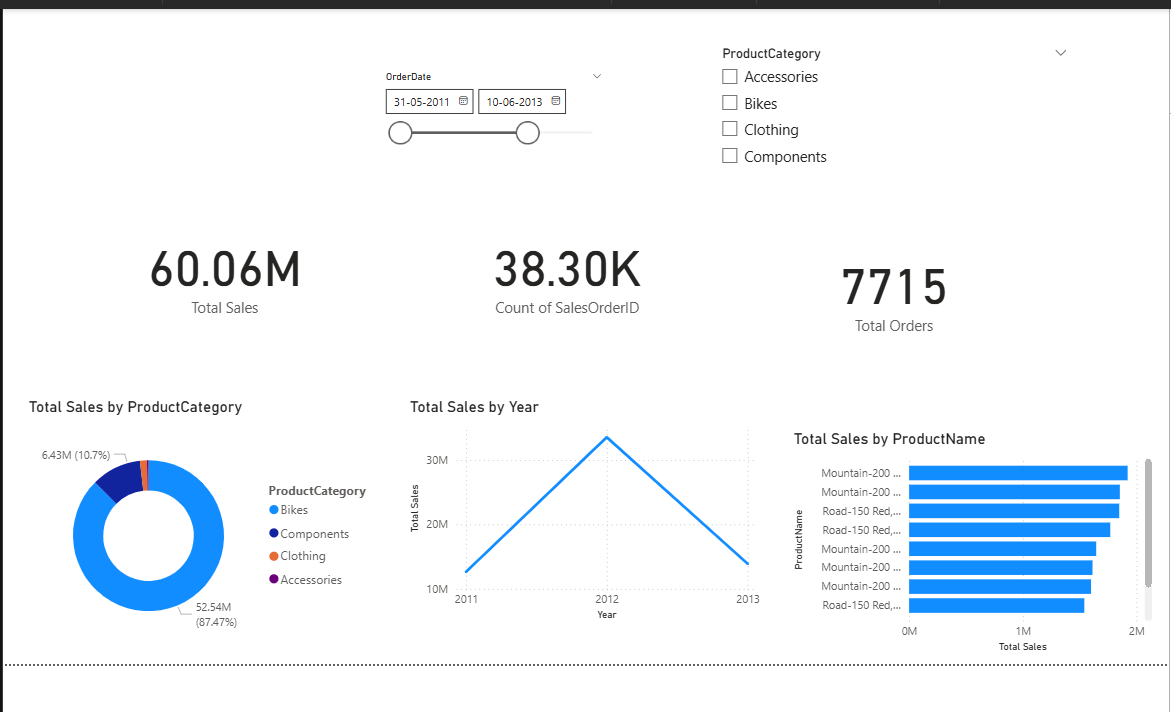

What the dashboard file says about the page in this screenshot:
{"tool":"powerbi","page":{"name":"Page 1","canvas":[1280,720],"ordinal":0},"visuals":[{"type":"card","fields":{"Values":["Query1.Total Sales"]},"box":[93.3,197.6,300.5,182.5],"z":0},{"type":"card","fields":{"Values":["CountNonNull(Query1.SalesOrderID)"]},"box":[476.2,237.4,286.8,102.9],"z":1},{"type":"card","fields":{"Values":["Query1.Total Orders"]},"box":[827.4,237.4,301.9,142.7],"z":2},{"type":"lineChart","fields":{"Category":["Query1.OrderDate.Variation.Date Hierarchy.Year","Query1.OrderDate.Variation.Date Hierarchy.Quarter","Query1.OrderDate.Variation.Date Hierarchy.Month","Query1.OrderDate.Variation.Date Hierarchy.Day"],"Y":["Query1.Total Sales"]},"box":[441.9,426.8,393.8,249.7],"z":3},{"type":"donutChart","fields":{"Category":["Query1.ProductCategory"],"Y":["Query1.Total Sales"]},"box":[23.3,426.8,395.2,284],"z":4},{"type":"barChart","fields":{"Category":["Query1.ProductName"],"Y":["Query1.Total Sales"]},"box":[863.1,461.1,403.4,249.7],"z":5},{"type":"slicer","fields":{"Values":["Query1.OrderDate"]},"box":[407.5,63.1,262.1,94.7],"z":6},{"type":"slicer","fields":{"Values":["Query1.ProductCategory"]},"box":[776.7,35.7,403.4,150.9],"z":7}]}

Visuals, with their boxes on the page's 1280x720 design canvas (x1, y1, x2, y2). These are canvas units, not pixel positions in the 1171x712 screenshot, which may show the page scaled, cropped or inside an application window:
card - Query1.Total Sales: bbox=(93, 198, 394, 380)
card - CountNonNull(Query1.SalesOrderID): bbox=(476, 237, 763, 340)
card - Query1.Total Orders: bbox=(827, 237, 1129, 380)
lineChart - Query1.OrderDate.Variation.Date Hierarchy.Year x Query1.OrderDate.Variation.Date Hierarchy.Quarter: bbox=(442, 427, 836, 676)
donutChart - Query1.ProductCategory x Query1.Total Sales: bbox=(23, 427, 418, 711)
barChart - Query1.ProductName x Query1.Total Sales: bbox=(863, 461, 1266, 711)
slicer - Query1.OrderDate: bbox=(408, 63, 670, 158)
slicer - Query1.ProductCategory: bbox=(777, 36, 1180, 187)
